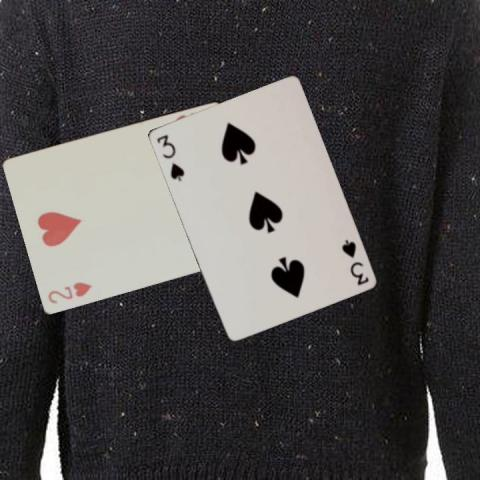2h: (45, 278, 93, 304)
3s: (154, 131, 186, 182), (338, 236, 370, 286)
